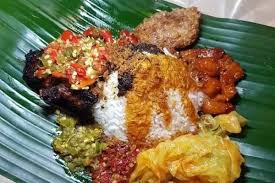Nasi padang: (21, 5, 255, 183)
